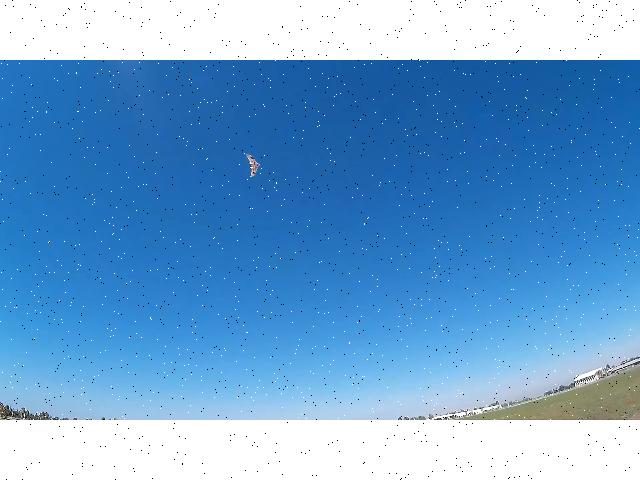Anti-Drone: (246, 154, 260, 176)
